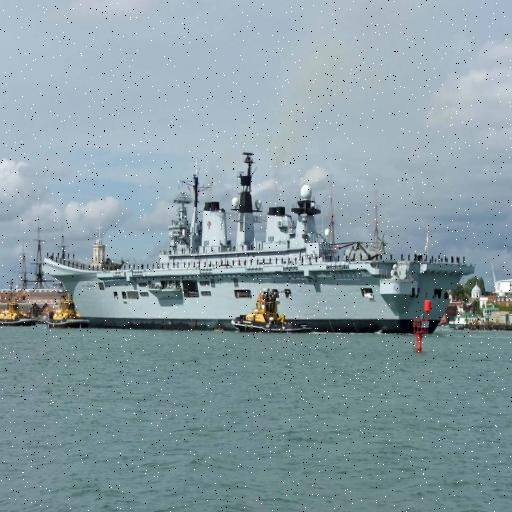Portanaves: (36, 148, 479, 347)
